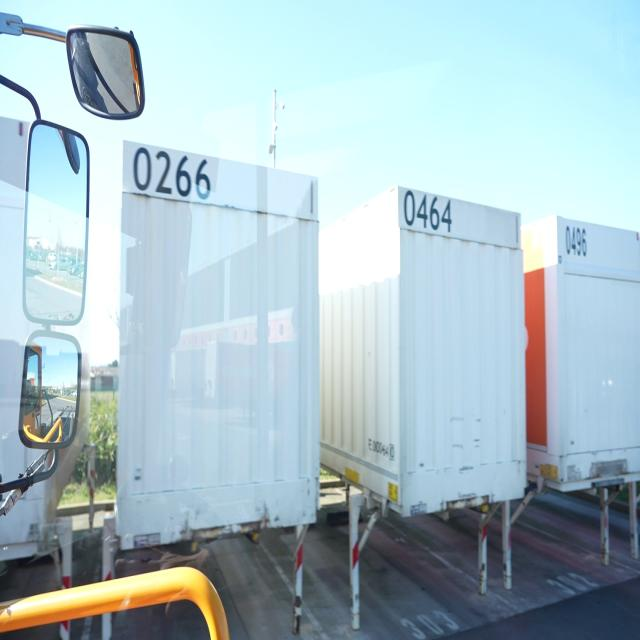Code: (131, 142, 213, 203), (402, 185, 454, 235), (558, 219, 590, 258)
